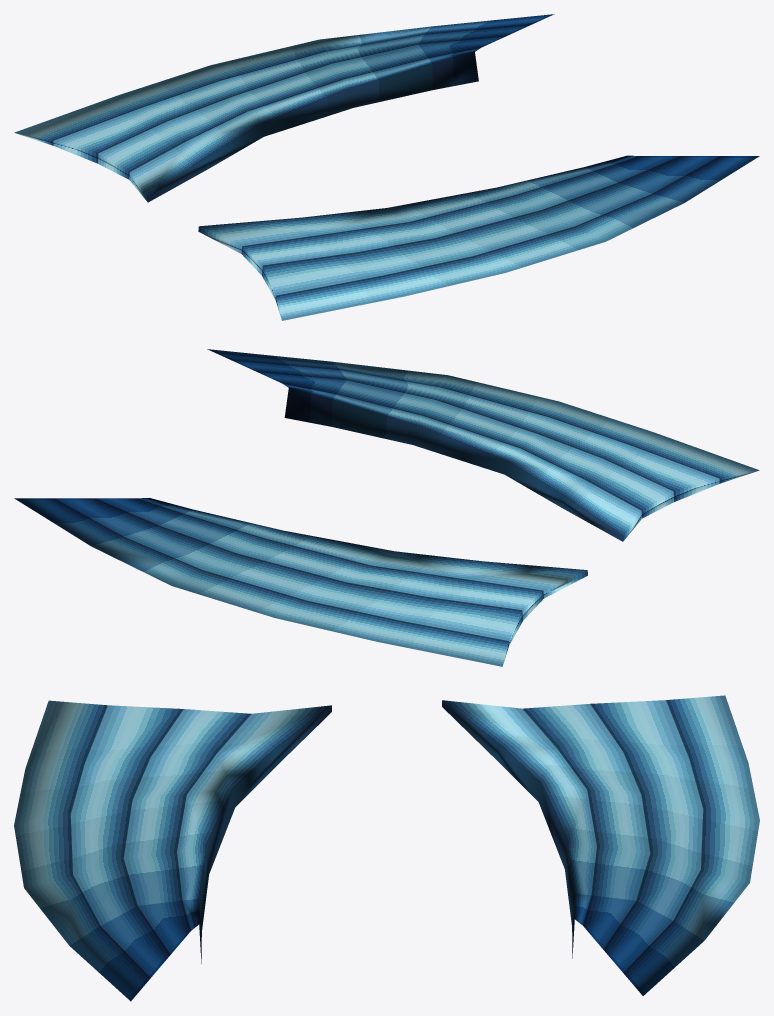
Rendered from GreatWhite_Power2.glb.
3 renders of one model, top to bottom at view 1: azimuth 30°, elevation 25°; view 2: azimuth 150°, elevation 25°; view 3: azimuth 270°, elevation 25°, orthographic. The views are drawn at different scales.
Parts seen in each view (by area): view 1: L_wing, R_wing; view 2: R_wing, L_wing; view 3: L_wing, R_wing.
Part boxes in pixels (bbox=[...]): L_wing: bbox=[198, 155, 759, 320]; R_wing: bbox=[14, 14, 554, 202]; R_wing: bbox=[14, 498, 587, 666]; L_wing: bbox=[207, 349, 759, 541]; L_wing: bbox=[14, 700, 331, 1001]; R_wing: bbox=[442, 695, 759, 995].
Size of the model in its own units: 5.73 by 0.312 by 5.49.
Materials: 1 (1 with a texture image).
